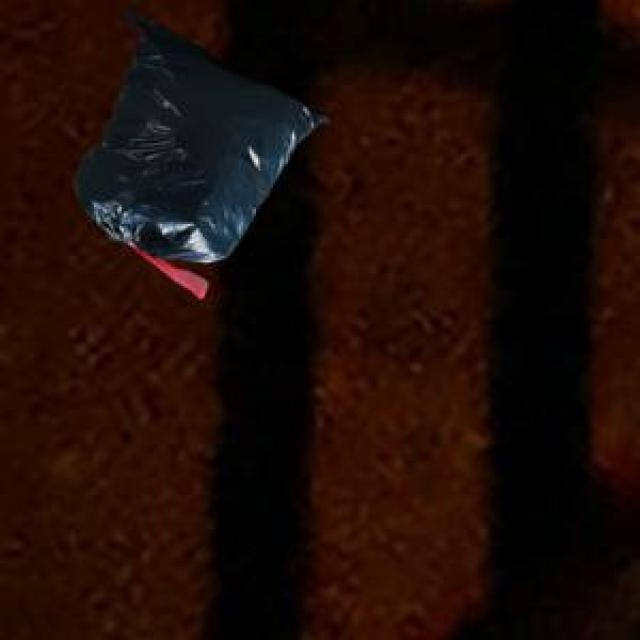miscellaneous trash: (70, 6, 324, 294)
